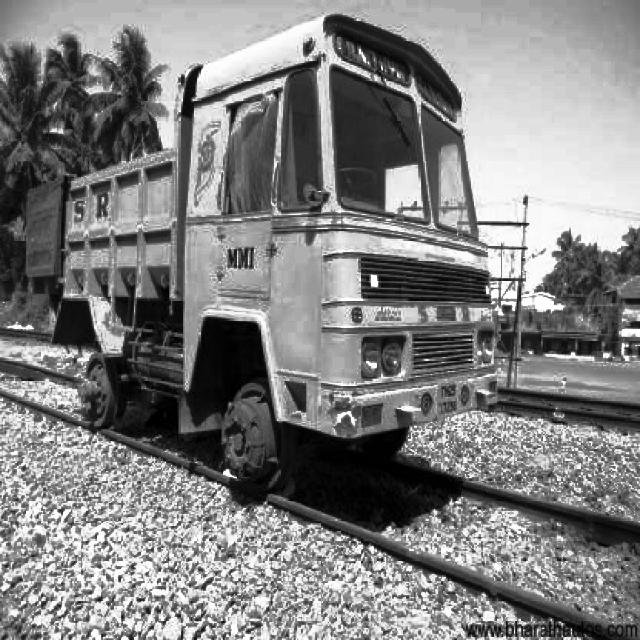HCV: (39, 77, 492, 479)
